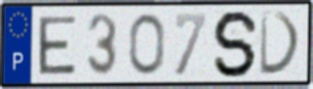3: (86, 12, 119, 79)
7: (173, 11, 210, 78)
D: (258, 9, 303, 78)
E: (36, 13, 78, 76)
O: (127, 12, 167, 78)
S: (211, 8, 262, 79)
